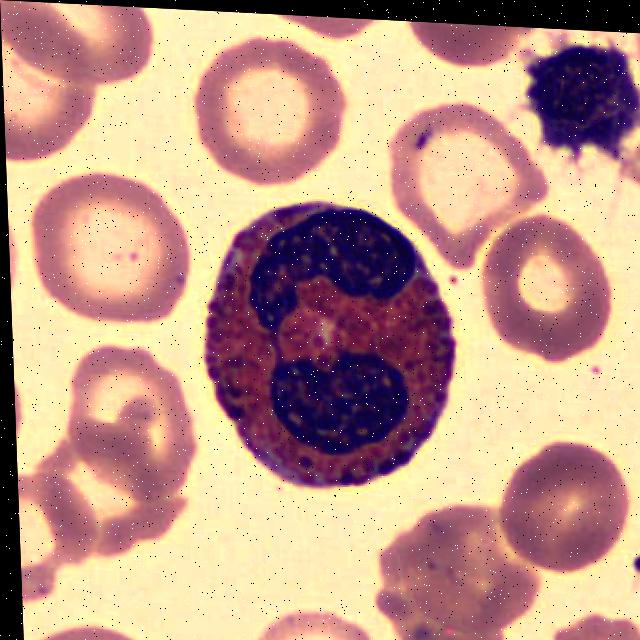eosinophil: (194, 201, 466, 503)
platelets: (526, 38, 640, 171)
rbc: (30, 159, 202, 326), (39, 426, 202, 580), (193, 37, 352, 191), (373, 493, 532, 640), (62, 333, 199, 497), (476, 210, 611, 374), (388, 106, 543, 245), (492, 438, 639, 584), (0, 0, 97, 172), (0, 0, 171, 96), (17, 464, 100, 631), (416, 22, 535, 74), (252, 597, 390, 640), (535, 603, 640, 640), (7, 191, 31, 337), (13, 344, 32, 467), (23, 627, 168, 640)
